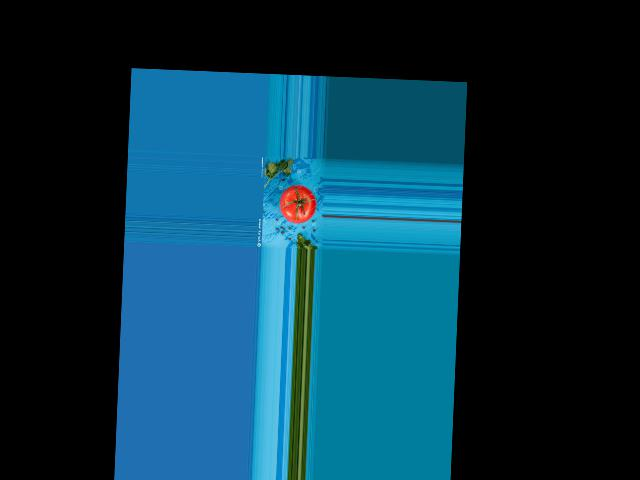tomato: (278, 183, 316, 223)
